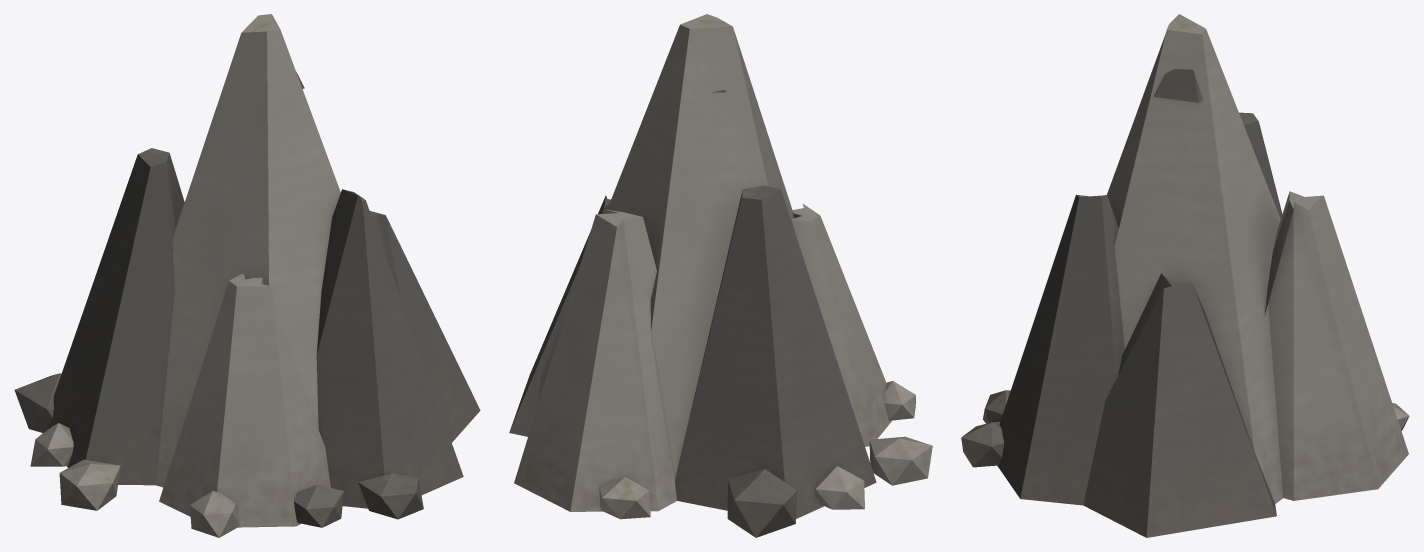
Rendered from montanha_3x3.glb.
3 views of the same model, side by side, from view 1: azimuth 30°, elevation 25°; view 2: azimuth 150°, elevation 25°; view 3: azimuth 270°, elevation 25° (orthographic).
Visible parts, largest first — view 1: montanha_3x3; view 2: montanha_3x3; view 3: montanha_3x3.
Boxes of the visible parts, x1,y1,x2,y2 form: montanha_3x3: (14, 14, 480, 537); montanha_3x3: (509, 14, 932, 537); montanha_3x3: (961, 14, 1409, 537).
Size of the model in its own units: 2.67 by 2.6 by 2.54.
Materials: 1 (1 with a texture image).
